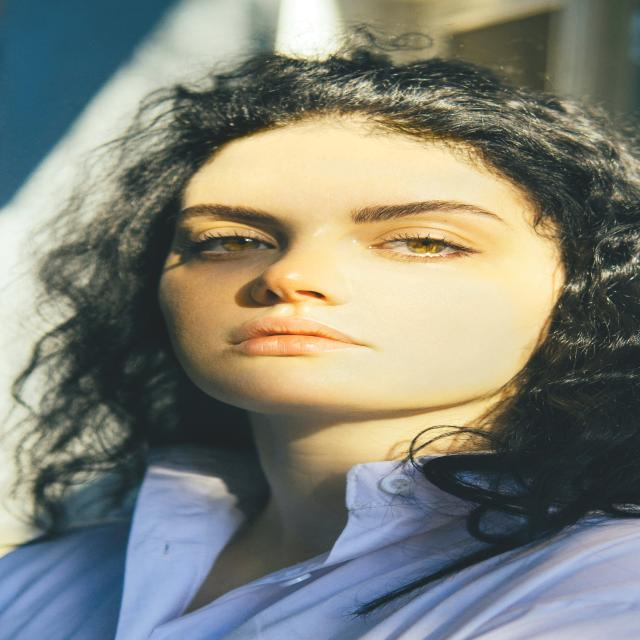piel: (160, 115, 570, 614)
